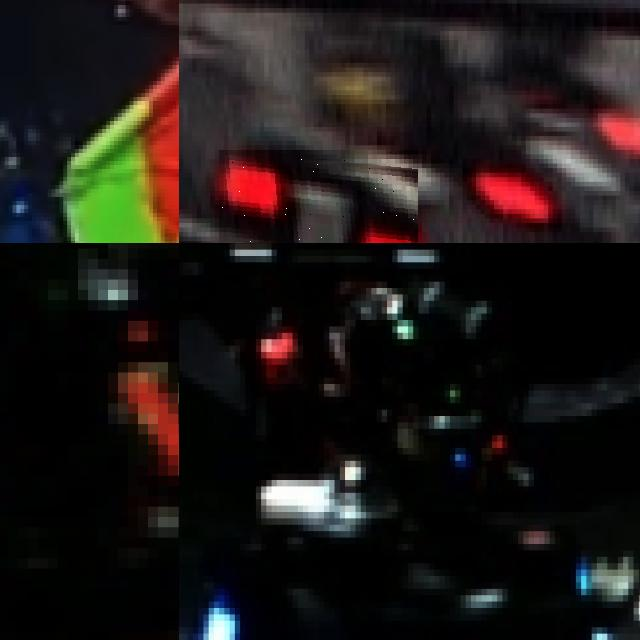R1: (471, 104, 640, 227), (219, 150, 417, 243)
